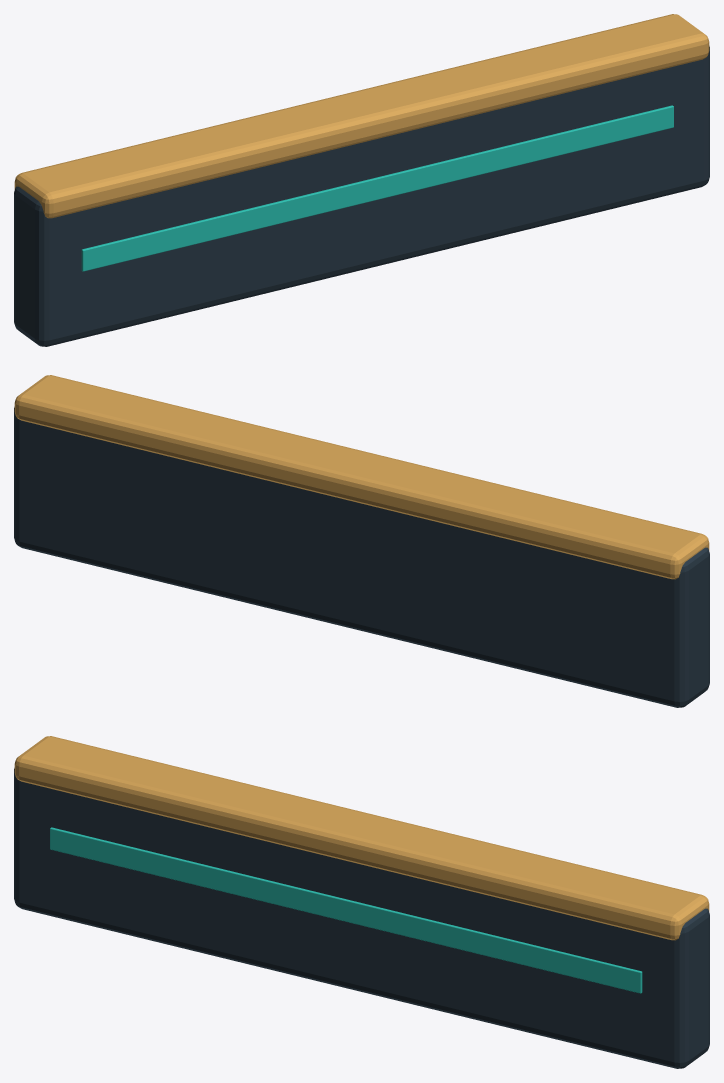
The model's file is wall.glb.
3 renders of one model, top to bottom at view 1: azimuth 30°, elevation 25°; view 2: azimuth 150°, elevation 25°; view 3: azimuth 330°, elevation 25°, orthographic.
Visible parts, largest first — view 1: Wall; view 2: Wall; view 3: Wall.
Part boxes in pixels (x1,y1,x2,y2): Wall: [14, 14, 709, 346]; Wall: [14, 375, 709, 707]; Wall: [14, 736, 709, 1068].
Size of the model in its own units: 1.8 by 0.3975 by 0.16.
